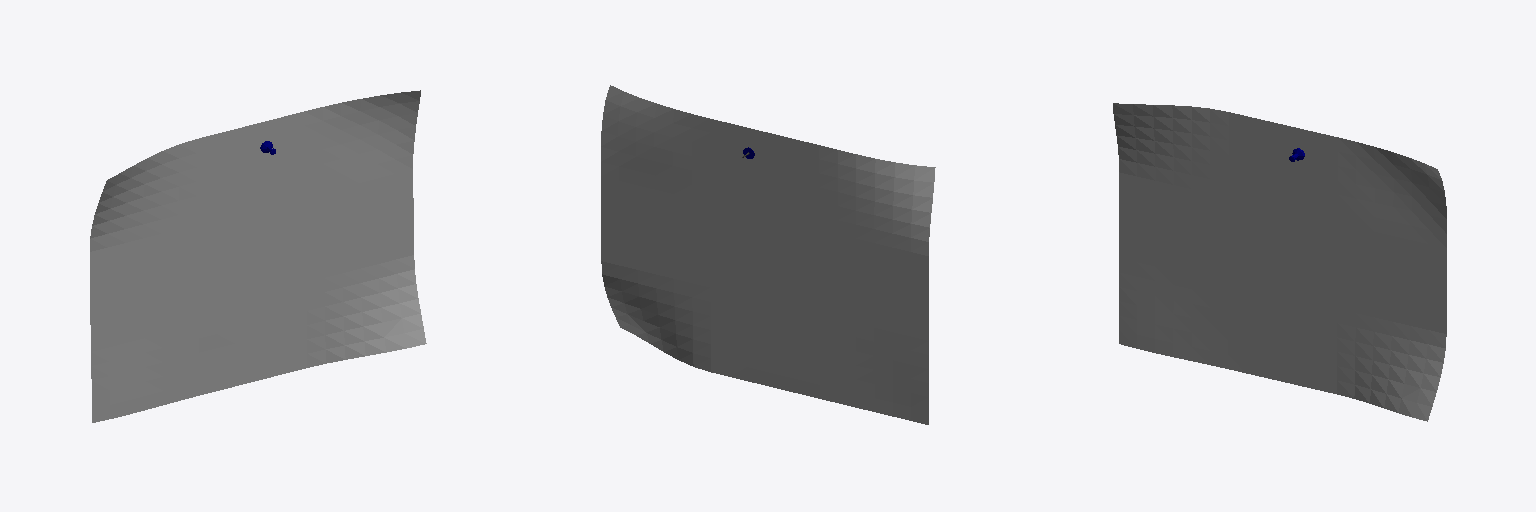
The model's file is paperpin6.obj.
3 views of the same model, side by side, from view 1: azimuth 30°, elevation 25°; view 2: azimuth 150°, elevation 25°; view 3: azimuth 330°, elevation 25° (orthographic).
Visible parts, largest first — view 1: drawing; view 2: drawing; view 3: drawing.
Boxes of the visible parts, <box> form: drawing: <box>90,90,426,422</box>; drawing: <box>601,85,935,424</box>; drawing: <box>1113,103,1446,421</box>.
Size of the model in its own units: 0.3957 by 0.298 by 0.0476.